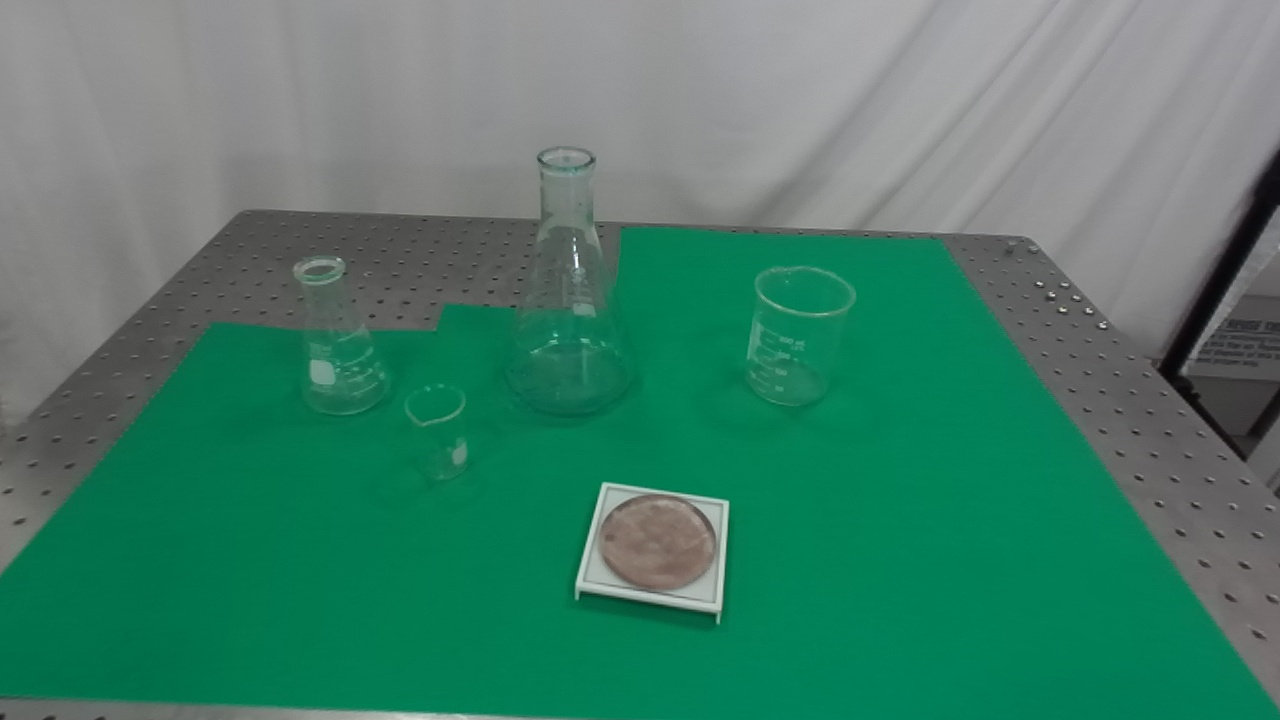glass: (495, 141, 644, 426), (286, 250, 399, 420), (738, 261, 864, 413), (403, 382, 477, 487)
plate: (567, 478, 738, 629)
